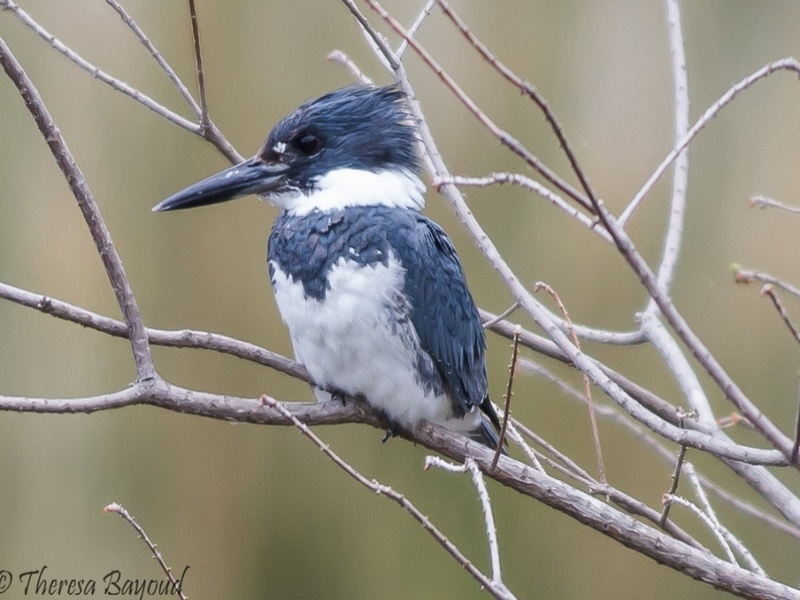kingfisher: (148, 84, 510, 459)
